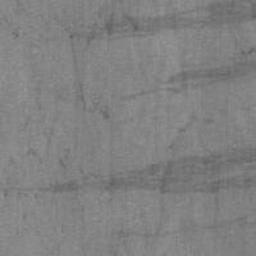Water spot: (40, 146, 256, 195), (55, 0, 256, 44), (123, 56, 256, 100), (119, 216, 256, 236)
